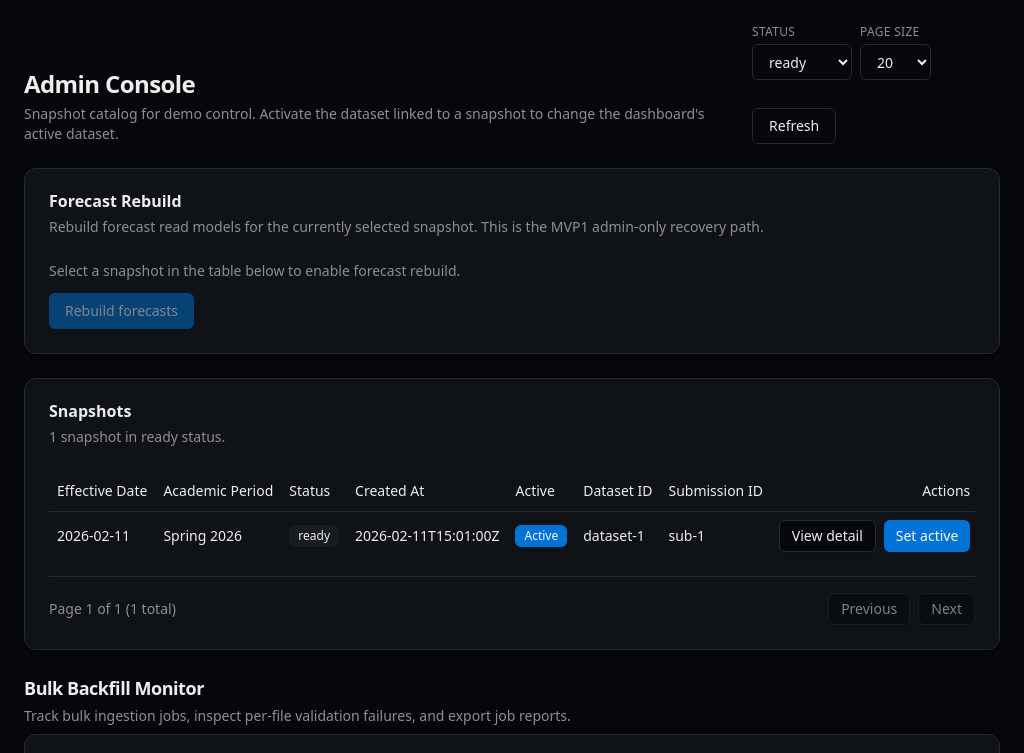
Scenario: Admin Console route › allows switching snapshot status filters
The image size is (1024, 753).
Expected: the row with test id "snapshot-row-snap-ready" is shown, [49,511,975,560]
Select "failed" in the dropdown named "Snapshot status filter" at coordinates (802, 62), box [752,44,852,80]
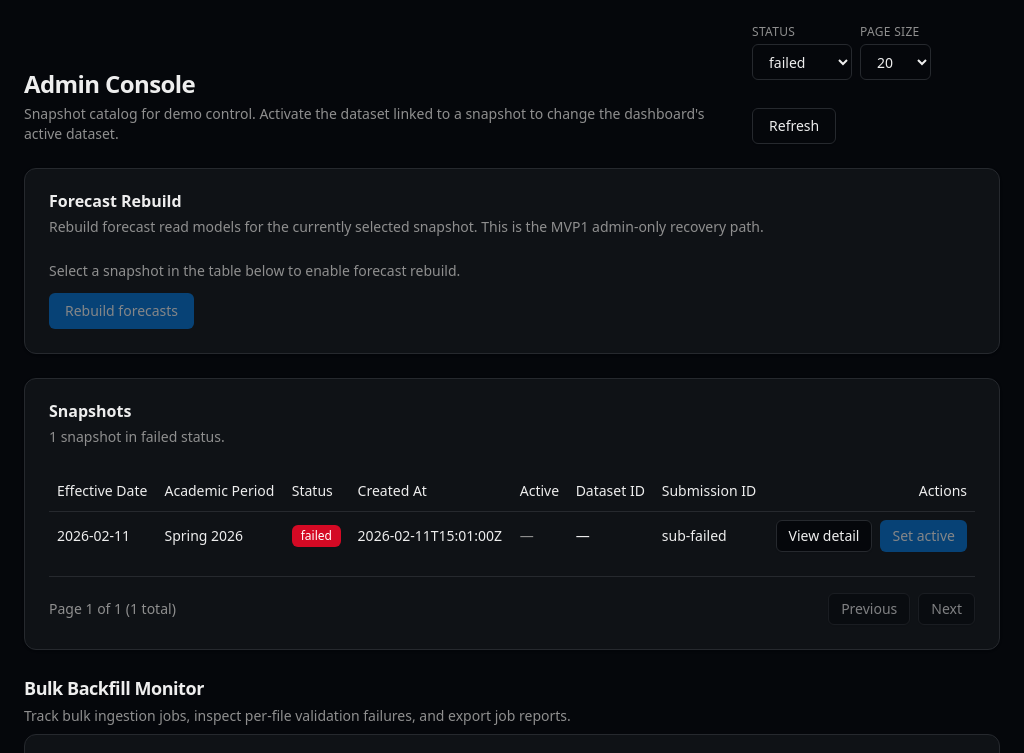
Result: the row with test id "snapshot-row-snap-failed-filtered" is shown at [49,511,975,560]
